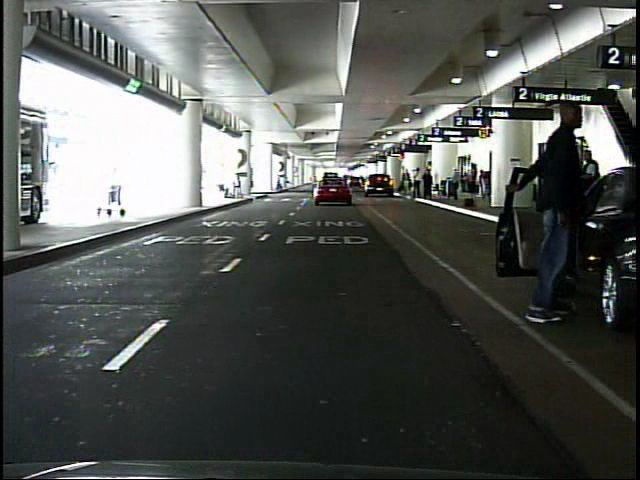person: (514, 99, 598, 327), (551, 142, 581, 239), (577, 146, 603, 235), (467, 162, 480, 206), (450, 167, 463, 202), (422, 167, 434, 201), (411, 166, 423, 200), (403, 169, 413, 197), (275, 172, 284, 189)
